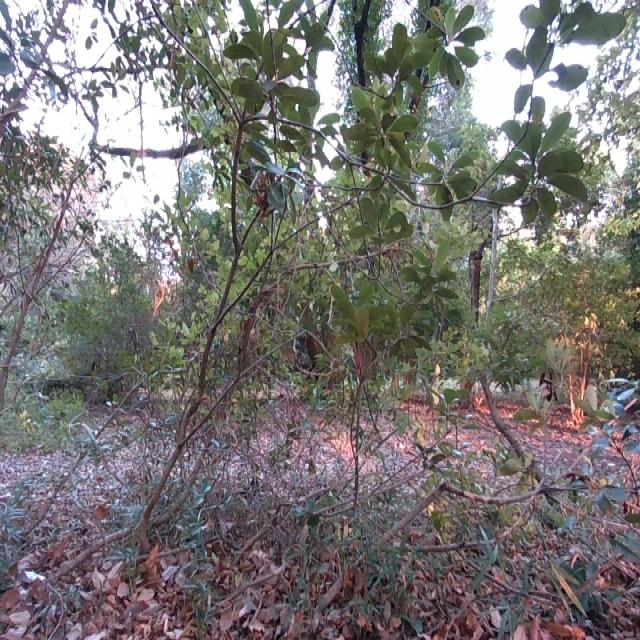bush: (91, 0, 596, 533), (0, 0, 97, 461)
